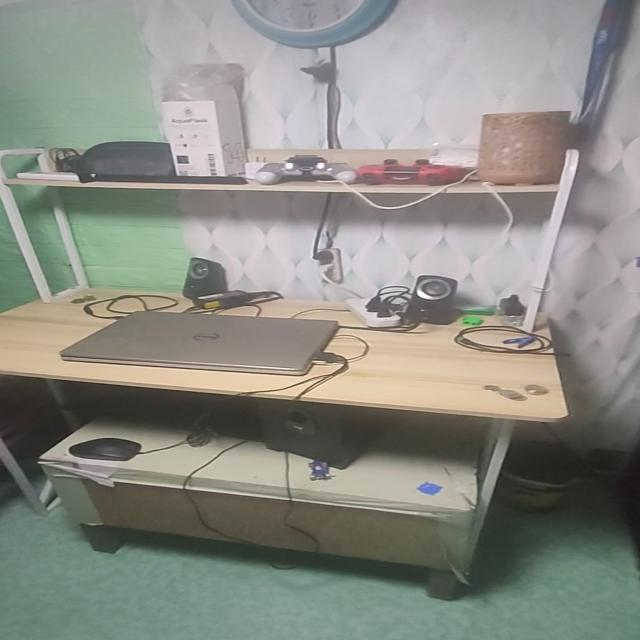table: (0, 278, 589, 609)
